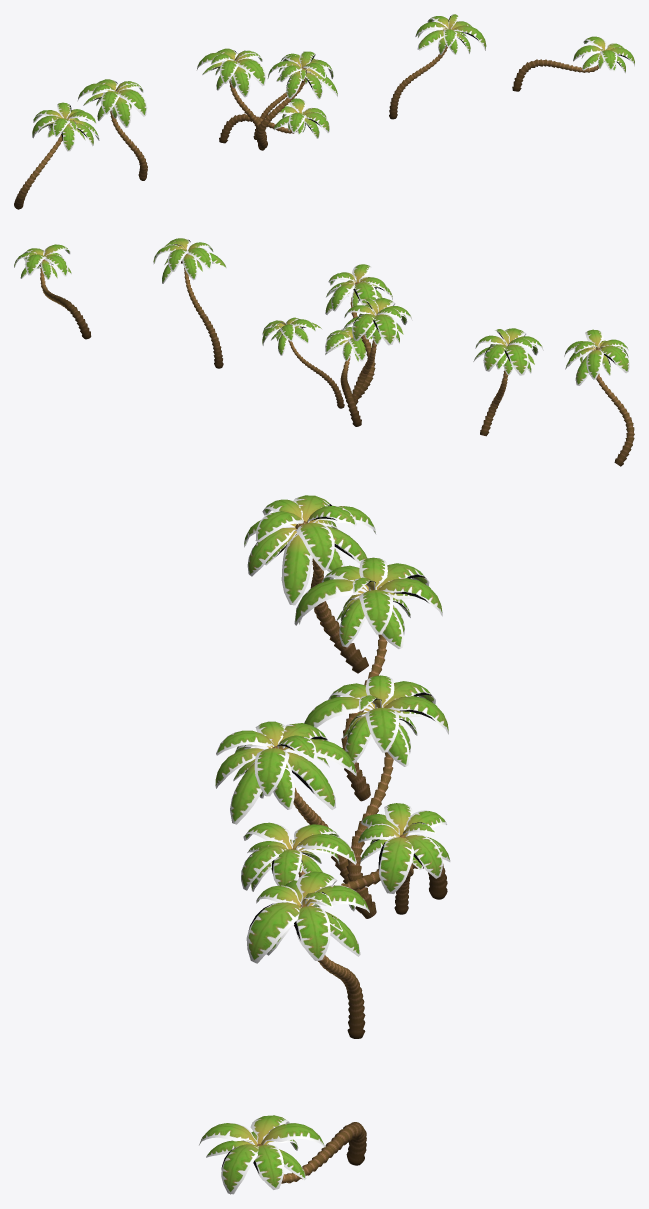
File: stylized_palm_tree_set.glb
3 renders of one model, top to bottom at view 1: azimuth 30°, elevation 25°; view 2: azimuth 150°, elevation 25°; view 3: azimuth 270°, elevation 25°, orthographic. The views are drawn at different scales.
Parts seen in each view (by area): view 1: PalmTreeSet_LP.011_Plam.002_0, PalmTreeSet_LP.011_Palm.001_0; view 2: PalmTreeSet_LP.011_Plam.002_0, PalmTreeSet_LP.011_Palm.001_0; view 3: PalmTreeSet_LP.011_Plam.002_0, PalmTreeSet_LP.011_Palm.001_0.
Boxes of the visible parts, x1,y1,x2,y2 form: PalmTreeSet_LP.011_Plam.002_0: (32,14,634,151); PalmTreeSet_LP.011_Palm.001_0: (14,46,598,209); PalmTreeSet_LP.011_Plam.002_0: (14,238,629,385); PalmTreeSet_LP.011_Palm.001_0: (39,254,634,466); PalmTreeSet_LP.011_Plam.002_0: (199,495,450,1194); PalmTreeSet_LP.011_Palm.001_0: (257,521,447,1183).
Bounding box in the file's own units: 4738 × 794 × 872.
2 materials, 2 textured.
